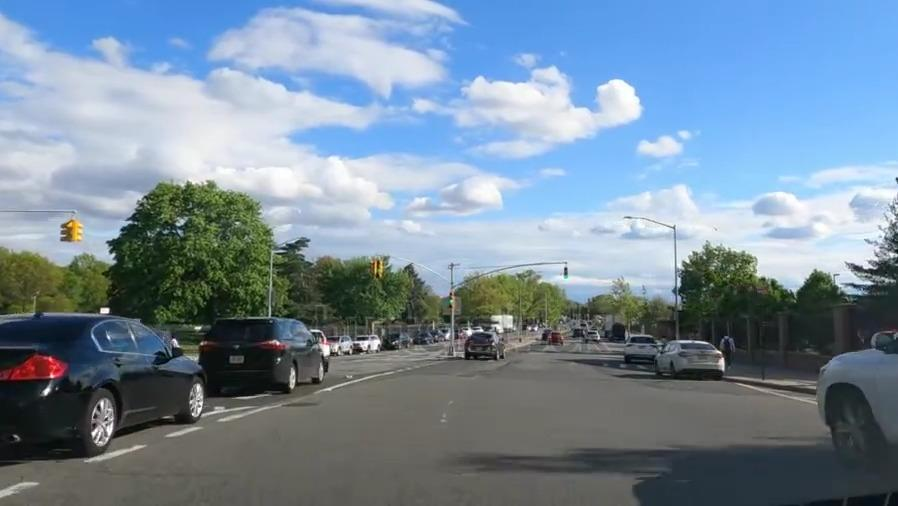car: (3, 310, 210, 450), (801, 318, 898, 472), (196, 315, 326, 394), (656, 338, 725, 382), (463, 332, 509, 362), (623, 332, 659, 363), (309, 323, 333, 365), (328, 332, 353, 359), (353, 335, 380, 355), (381, 333, 412, 350), (413, 332, 433, 345), (547, 331, 563, 347), (585, 332, 602, 345), (573, 328, 585, 340), (432, 331, 442, 342), (541, 329, 552, 339), (441, 328, 450, 340)
pothole: (273, 399, 324, 412)
traffic light: (58, 213, 85, 247), (720, 330, 737, 368), (365, 254, 385, 283), (445, 287, 460, 316), (561, 262, 572, 281)
wheel: (821, 388, 884, 470), (78, 388, 123, 447), (179, 374, 206, 420)
